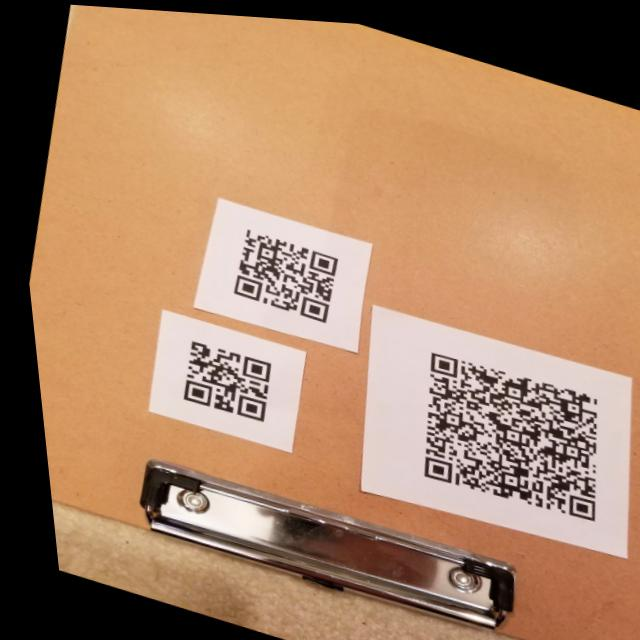QR_CODE: (374, 319, 632, 535), (196, 201, 359, 338), (149, 313, 292, 436)
